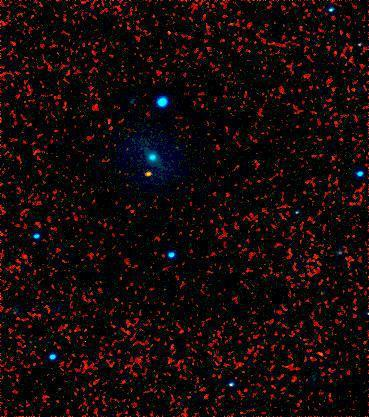star: (132, 158, 162, 188)
